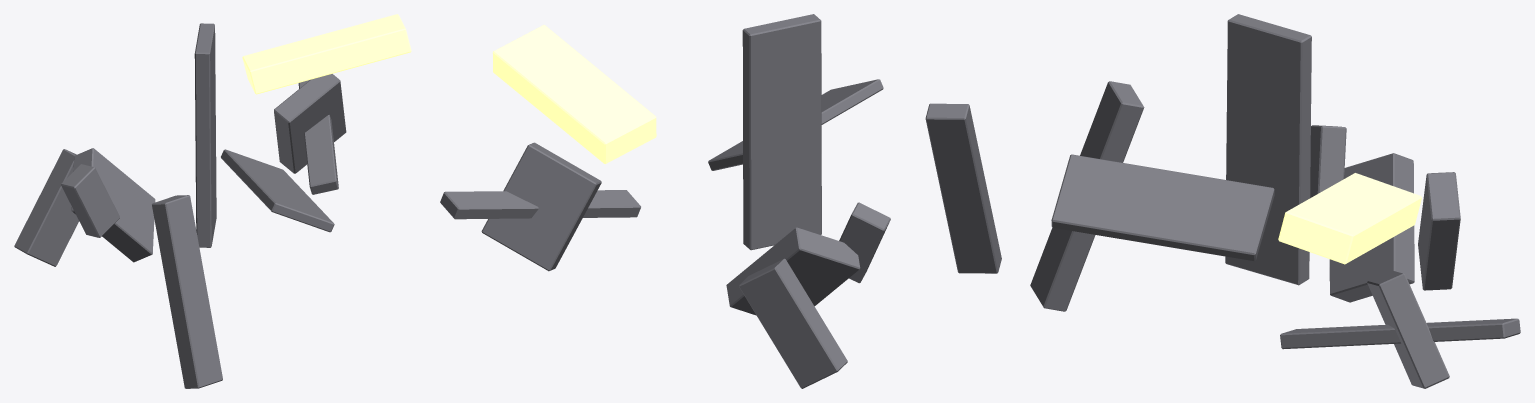
File: SM_ArchDebris_B.fbx
The picture shows the model from 3 angles, left to right: view 1: azimuth 30°, elevation 25°; view 2: azimuth 150°, elevation 25°; view 3: azimuth 270°, elevation 25°; orthographic projection. The views are drawn at different scales.
Visible parts, largest first — view 1: SM_ArchDebris_B; view 2: SM_ArchDebris_B; view 3: SM_ArchDebris_B.
Boxes of the visible parts, bbox=[...] form: SM_ArchDebris_B: bbox=[14, 14, 411, 388]; SM_ArchDebris_B: bbox=[440, 14, 1001, 388]; SM_ArchDebris_B: bbox=[1030, 14, 1520, 388].
Size of the model in its own units: 214 by 155 by 207.
